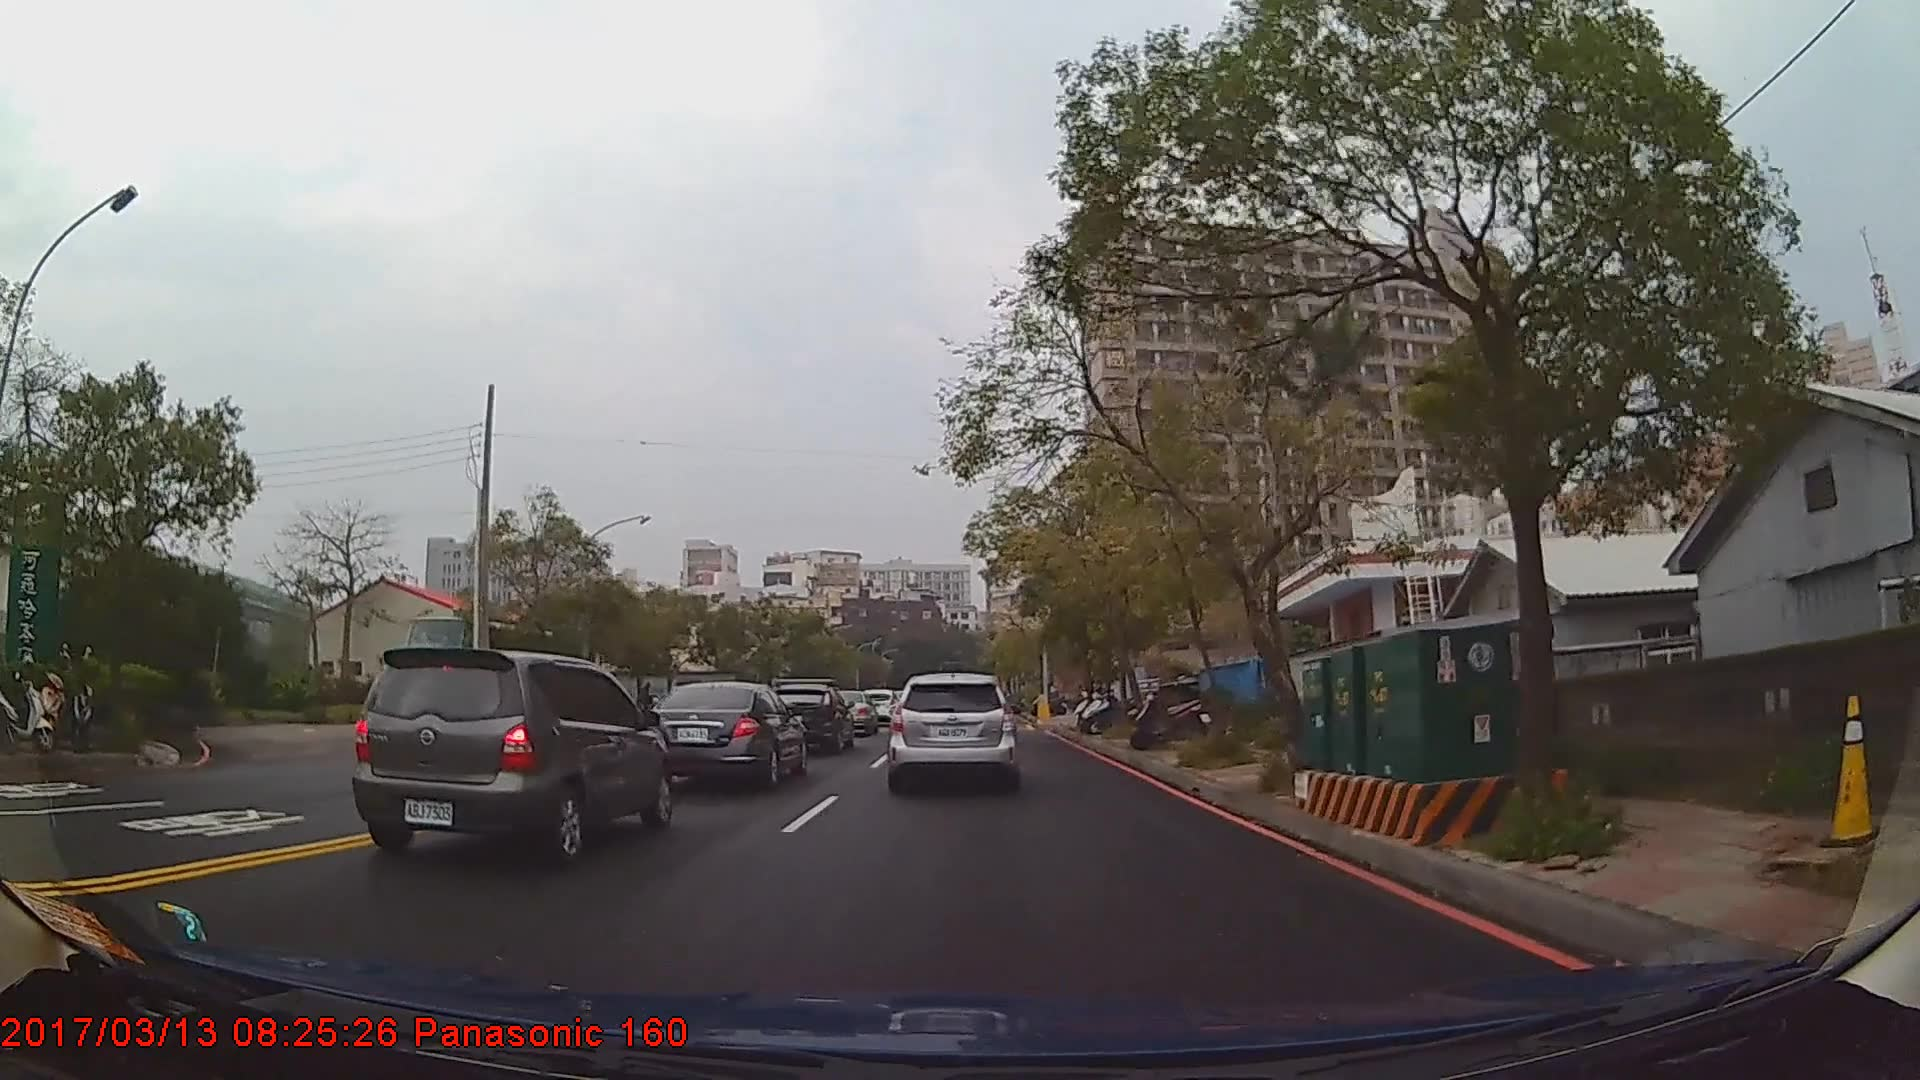vehicle: (349, 644, 674, 862), (641, 679, 810, 786), (887, 671, 1019, 789), (764, 682, 852, 752), (823, 688, 877, 736)
